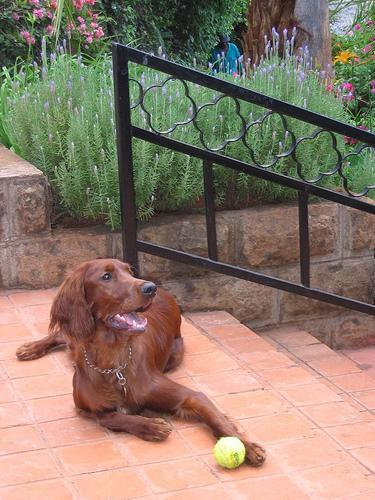Irish_setter: (13, 257, 267, 471)
